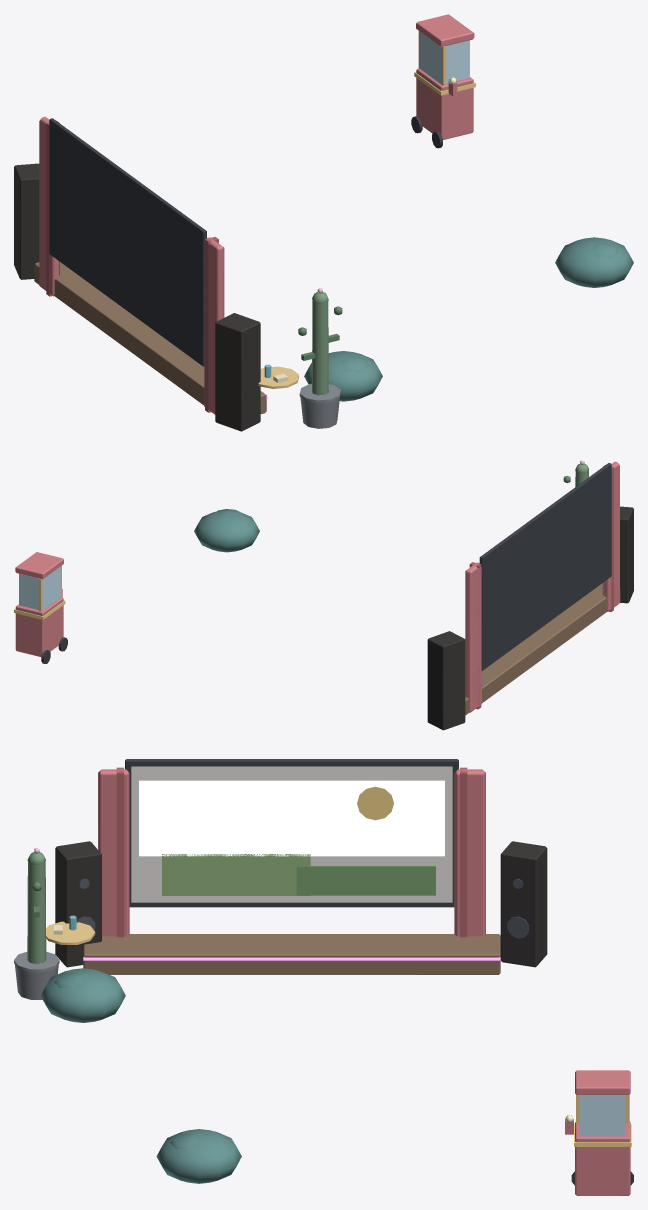
The model's file is einrichtung_kino_buehne.glb.
3 views of the same model, one above another, from view 1: azimuth 30°, elevation 25°; view 2: azimuth 150°, elevation 25°; view 3: azimuth 270°, elevation 25° (orthographic). The views are drawn at different scales.
Visible parts, largest first — view 1: einrichtung_kino_buehne; view 2: einrichtung_kino_buehne; view 3: einrichtung_kino_buehne.
Part boxes in pixels (<box>): einrichtung_kino_buehne: <box>14,14,633,431</box>; einrichtung_kino_buehne: <box>14,460,633,730</box>; einrichtung_kino_buehne: <box>14,759,633,1195</box>.
Size of the model in its own units: 6.52 by 2.31 by 6.68.
